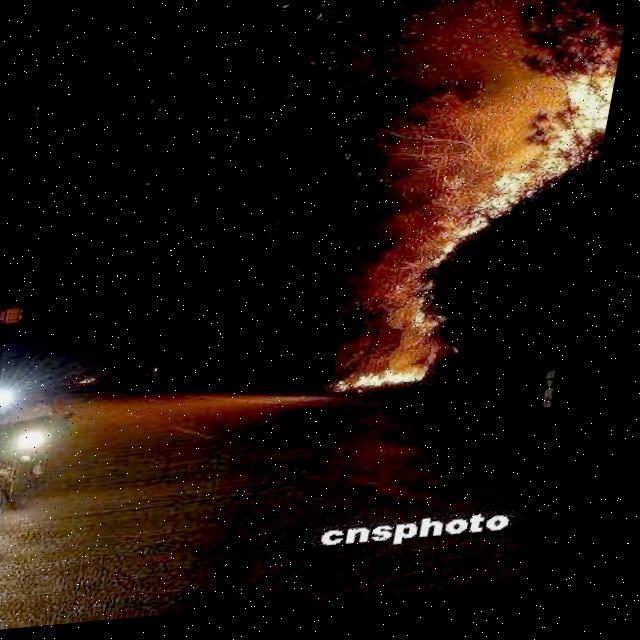Fire: (370, 66, 622, 420)
